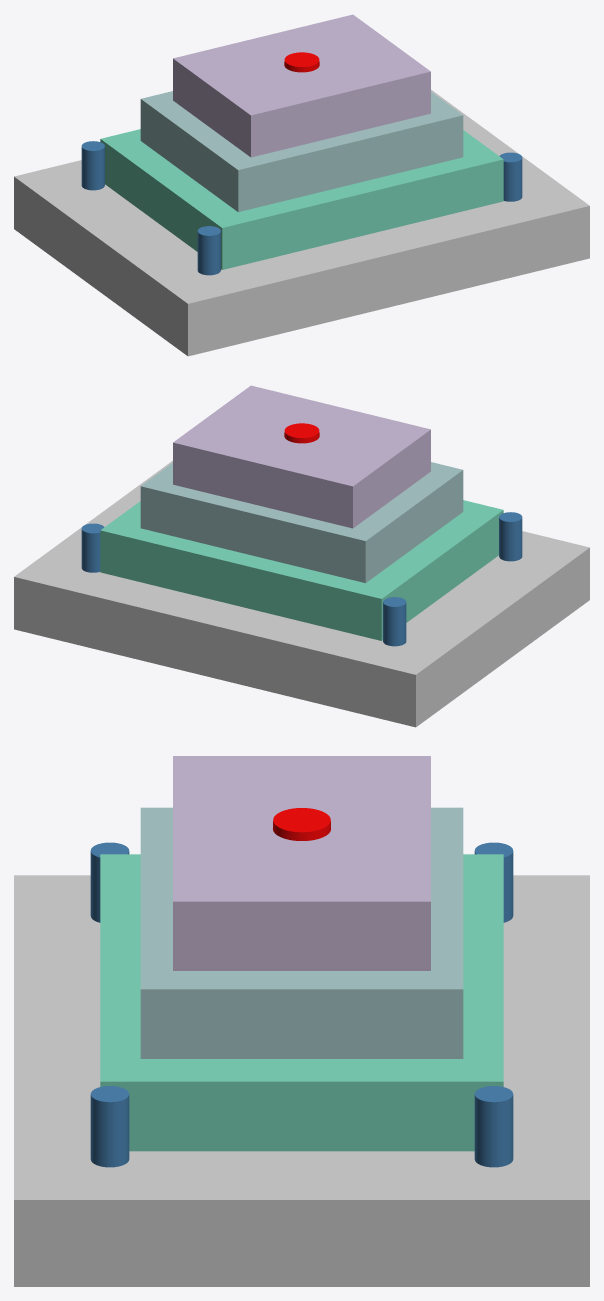
The model's file is yaratici_plaka_montaji.gltf.
The picture shows the model from 3 angles, top to bottom: view 1: azimuth 30°, elevation 25°; view 2: azimuth 150°, elevation 25°; view 3: azimuth 270°, elevation 25°; orthographic projection. The views are drawn at different scales.
Visible parts, largest first — view 1: ana_plaka_part, ust_yapi_katman_3_part, ust_yapi_katman_1_part, ust_yapi_katman_2_part, kose_pimi_2_part, kose_pimi_3_part, kose_pimi_4_part, ana_pim_part; view 2: ana_plaka_part, ust_yapi_katman_3_part, ust_yapi_katman_1_part, ust_yapi_katman_2_part, kose_pimi_2_part, kose_pimi_3_part, kose_pimi_1_part, ana_pim_part; view 3: ana_plaka_part, ust_yapi_katman_3_part, ust_yapi_katman_1_part, ust_yapi_katman_2_part, kose_pimi_1_part, kose_pimi_4_part, ana_pim_part, kose_pimi_2_part, kose_pimi_3_part.
Part boxes in pixels (left/top/right/bottom): ana_plaka_part: left=14, top=89, right=589, bottom=356; ust_yapi_katman_3_part: left=173, top=14, right=430, bottom=157; ust_yapi_katman_1_part: left=100, top=129, right=503, bottom=269; ust_yapi_katman_2_part: left=140, top=91, right=463, bottom=212; kose_pimi_2_part: left=81, top=141, right=104, bottom=190; kose_pimi_3_part: left=197, top=226, right=220, bottom=275; kose_pimi_4_part: left=499, top=152, right=522, bottom=201; ana_pim_part: left=284, top=52, right=319, bottom=72; ana_plaka_part: left=14, top=460, right=589, bottom=727; ust_yapi_katman_3_part: left=173, top=385, right=430, bottom=528; ust_yapi_katman_1_part: left=100, top=500, right=503, bottom=640; ust_yapi_katman_2_part: left=140, top=462, right=463, bottom=583; kose_pimi_2_part: left=383, top=597, right=406, bottom=646; kose_pimi_3_part: left=499, top=512, right=522, bottom=561; kose_pimi_1_part: left=81, top=523, right=104, bottom=572; ana_pim_part: left=284, top=423, right=319, bottom=443; ana_plaka_part: left=14, top=875, right=589, bottom=1286; ust_yapi_katman_3_part: left=173, top=756, right=430, bottom=970; ust_yapi_katman_1_part: left=100, top=854, right=503, bottom=1151; ust_yapi_katman_2_part: left=140, top=807, right=463, bottom=1058; kose_pimi_1_part: left=474, top=1086, right=513, bottom=1167; kose_pimi_4_part: left=90, top=1086, right=129, bottom=1167; ana_pim_part: left=273, top=808, right=330, bottom=840; kose_pimi_2_part: left=474, top=842, right=513, bottom=922; kose_pimi_3_part: left=90, top=842, right=129, bottom=922.
Size of the model in its own units: 80 by 35 by 60.
